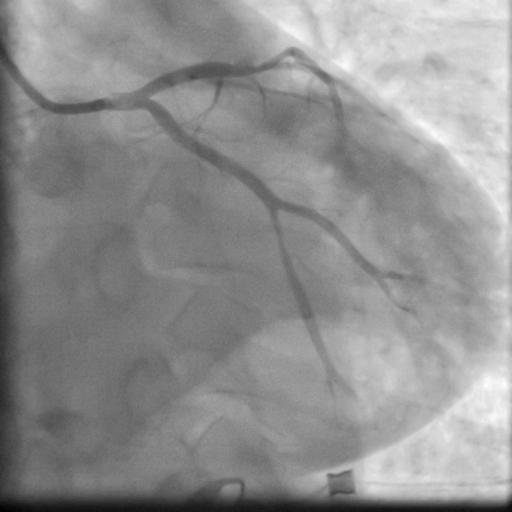Stenosis: (272, 213, 290, 262)
